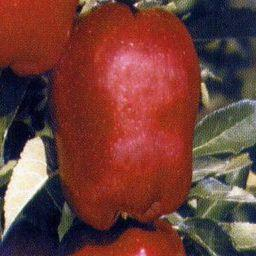apple: (50, 4, 201, 234)
